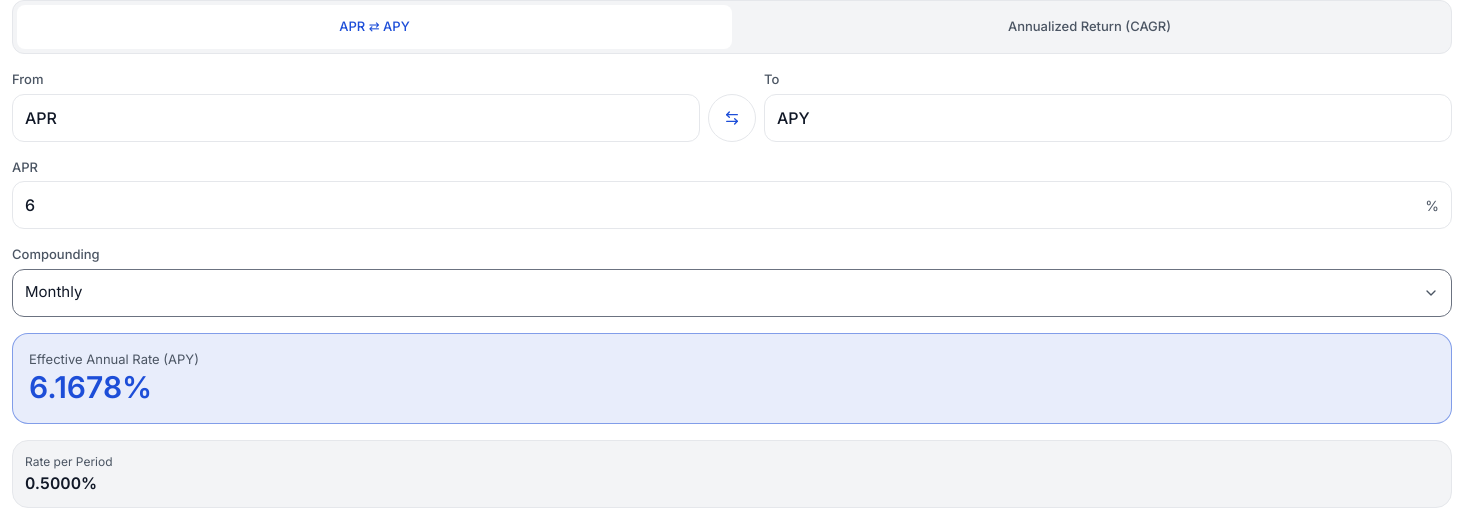
switches to the annualized return mode with its own fields
Click the button "Annualized Return (CAGR)" at (1090, 27), box [732, 5, 1447, 49]
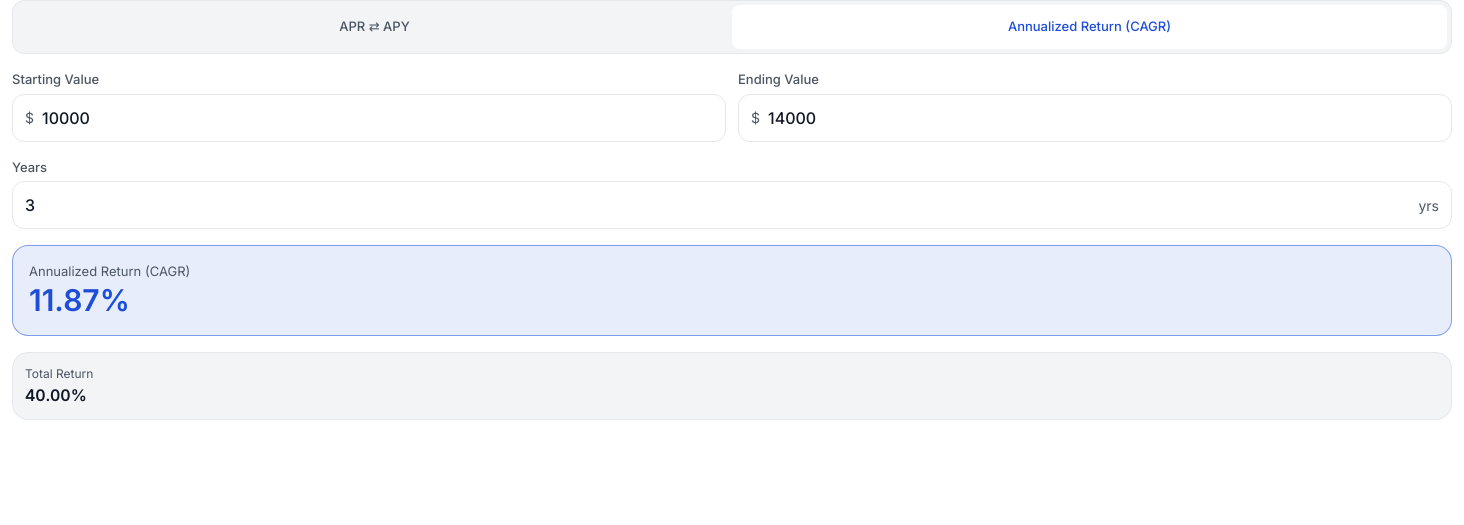
Result: the text "Total Return" is shown at [25, 366, 93, 381]
Result: the field labelled "Starting Value" is shown at [42, 106, 713, 130]
